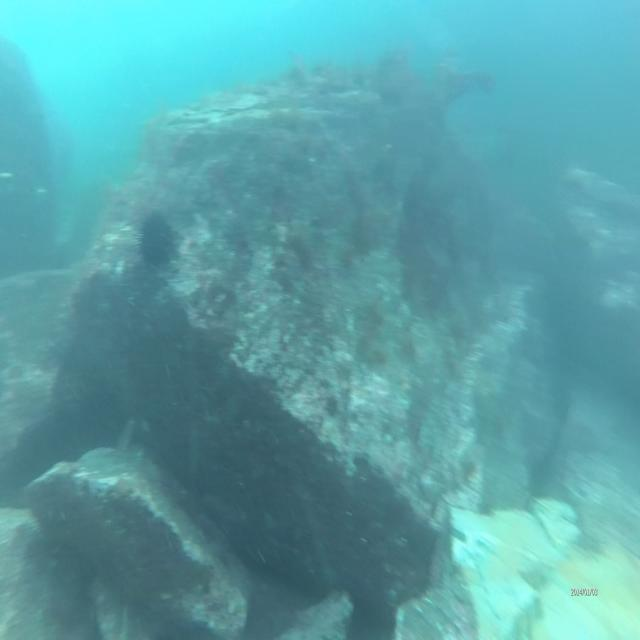echinus: (136, 203, 179, 279)
